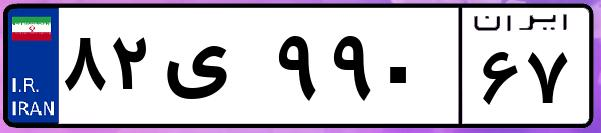0: (385, 28, 445, 110)
2: (110, 28, 158, 98)
6: (475, 38, 525, 113)
7: (525, 38, 570, 115)
8: (57, 26, 110, 100)
9: (270, 28, 330, 110), (330, 28, 385, 110)
ی: (158, 20, 270, 120)
